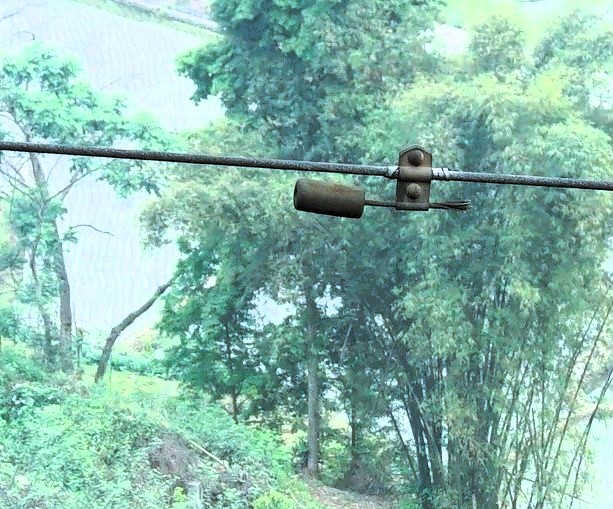Damage of shockproof hammer: (277, 138, 483, 227)
